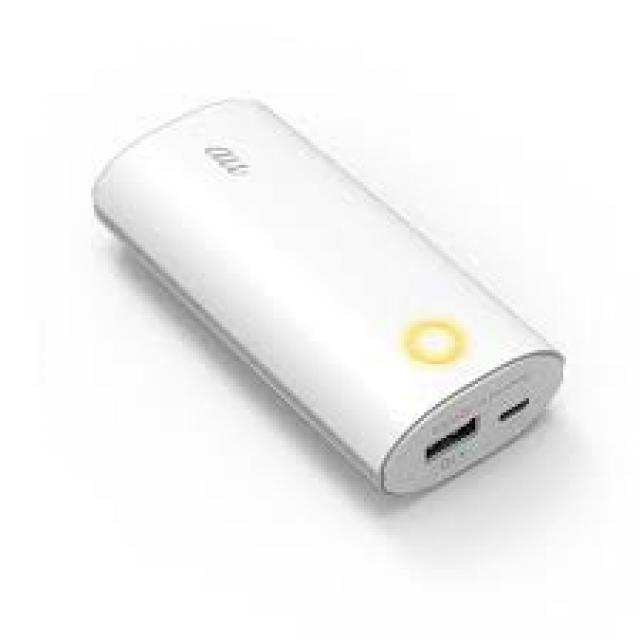non-organic waste: (92, 96, 563, 493)
